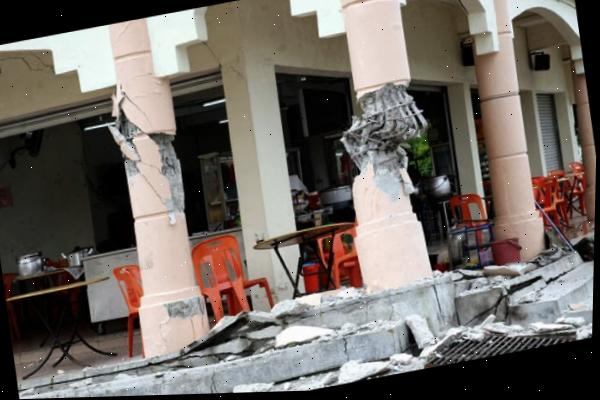spalling: (341, 83, 427, 197), (150, 133, 185, 212), (163, 296, 203, 318), (114, 112, 142, 142), (125, 158, 139, 182)
